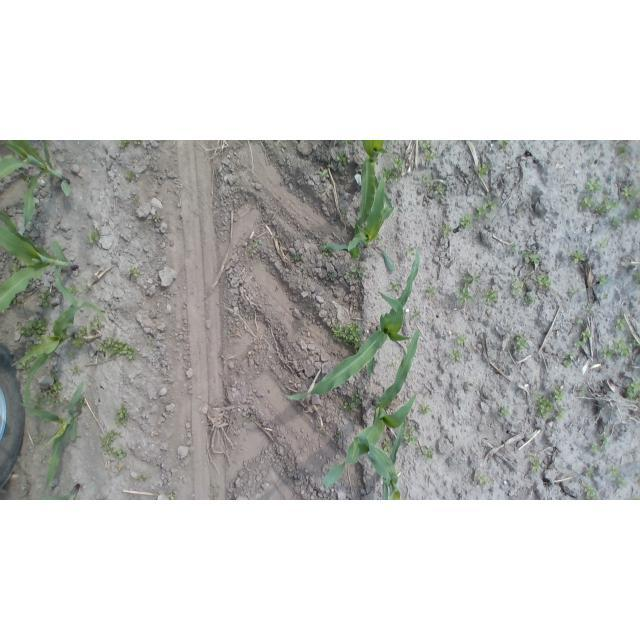Maize: (282, 248, 423, 401), (322, 328, 422, 491), (10, 302, 104, 412), (0, 209, 80, 318), (19, 381, 89, 492), (319, 173, 397, 271), (1, 141, 72, 234), (352, 426, 407, 500), (359, 141, 388, 236), (43, 484, 86, 500)
Weeds: (33, 369, 71, 412), (99, 337, 138, 361), (331, 322, 363, 348), (457, 272, 479, 308), (18, 315, 48, 339), (613, 335, 640, 357), (475, 196, 497, 219), (594, 197, 620, 216), (534, 394, 553, 419), (100, 430, 118, 455), (72, 325, 89, 349), (343, 393, 364, 410), (481, 290, 501, 307), (115, 404, 129, 428), (622, 185, 640, 203), (514, 332, 531, 351), (625, 378, 640, 399), (511, 276, 526, 296), (578, 195, 596, 211), (405, 424, 418, 446), (38, 290, 53, 309), (383, 167, 402, 182), (614, 313, 628, 332), (536, 273, 552, 289), (523, 251, 540, 266), (551, 385, 565, 403), (585, 178, 601, 193), (566, 285, 586, 297), (572, 249, 587, 265), (116, 140, 146, 148), (596, 433, 611, 449), (579, 327, 592, 345), (583, 485, 598, 500), (460, 215, 475, 230), (554, 404, 567, 421), (88, 228, 101, 245), (208, 482, 220, 500), (528, 457, 542, 472), (478, 474, 495, 486), (391, 157, 405, 171), (421, 174, 436, 187), (90, 317, 103, 332), (563, 353, 576, 368), (477, 163, 490, 178), (352, 265, 367, 278), (440, 223, 453, 238), (524, 293, 537, 307), (628, 207, 640, 222), (33, 432, 48, 444), (448, 349, 461, 362), (335, 152, 347, 166), (598, 273, 610, 287), (19, 359, 34, 370), (69, 283, 82, 295), (601, 346, 613, 359), (610, 217, 623, 229), (114, 448, 127, 460), (422, 448, 434, 461), (390, 281, 403, 293), (381, 438, 393, 451), (425, 286, 437, 299), (419, 403, 432, 415), (456, 333, 468, 346), (124, 171, 138, 182), (317, 425, 332, 435), (506, 241, 518, 253), (631, 269, 640, 284), (20, 171, 31, 183), (499, 405, 510, 417), (435, 182, 445, 195), (78, 397, 88, 410), (137, 472, 150, 482), (618, 145, 631, 155), (577, 387, 588, 398), (413, 310, 424, 321), (615, 477, 627, 487), (424, 151, 436, 161), (421, 141, 433, 151), (129, 267, 139, 279), (320, 249, 333, 258), (609, 465, 620, 475), (405, 247, 416, 257), (11, 263, 22, 273), (598, 239, 608, 250), (498, 141, 510, 150), (25, 342, 37, 351), (588, 302, 596, 315), (373, 233, 383, 243), (70, 366, 80, 376), (584, 468, 595, 477), (294, 252, 303, 263), (169, 489, 178, 500), (339, 208, 348, 218), (321, 169, 329, 180), (590, 443, 598, 453), (344, 274, 353, 282), (253, 238, 262, 246), (246, 417, 256, 424), (465, 381, 473, 389), (85, 284, 93, 292), (326, 271, 334, 279), (153, 216, 162, 223), (148, 337, 155, 346), (602, 293, 610, 300), (388, 363, 396, 370), (576, 318, 583, 325), (247, 247, 254, 254), (69, 353, 76, 360), (631, 494, 640, 499), (220, 355, 226, 362), (134, 196, 139, 204), (353, 303, 359, 309)
